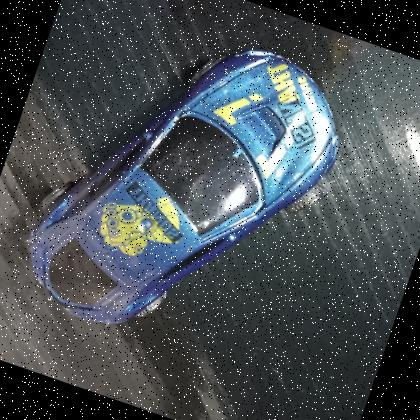Car: (0, 0, 372, 392)
